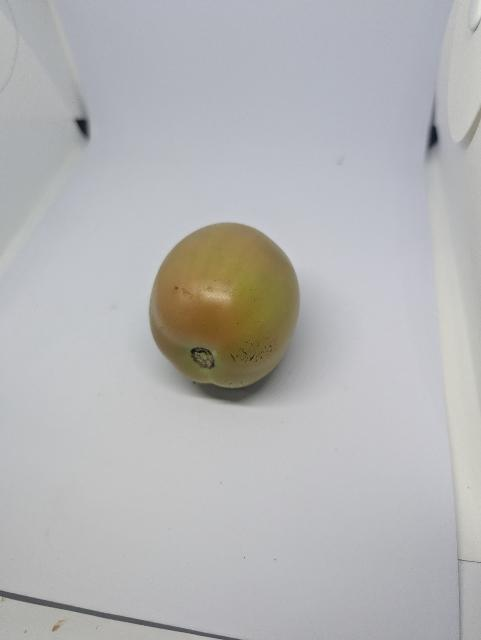breaker: (146, 219, 306, 395)
